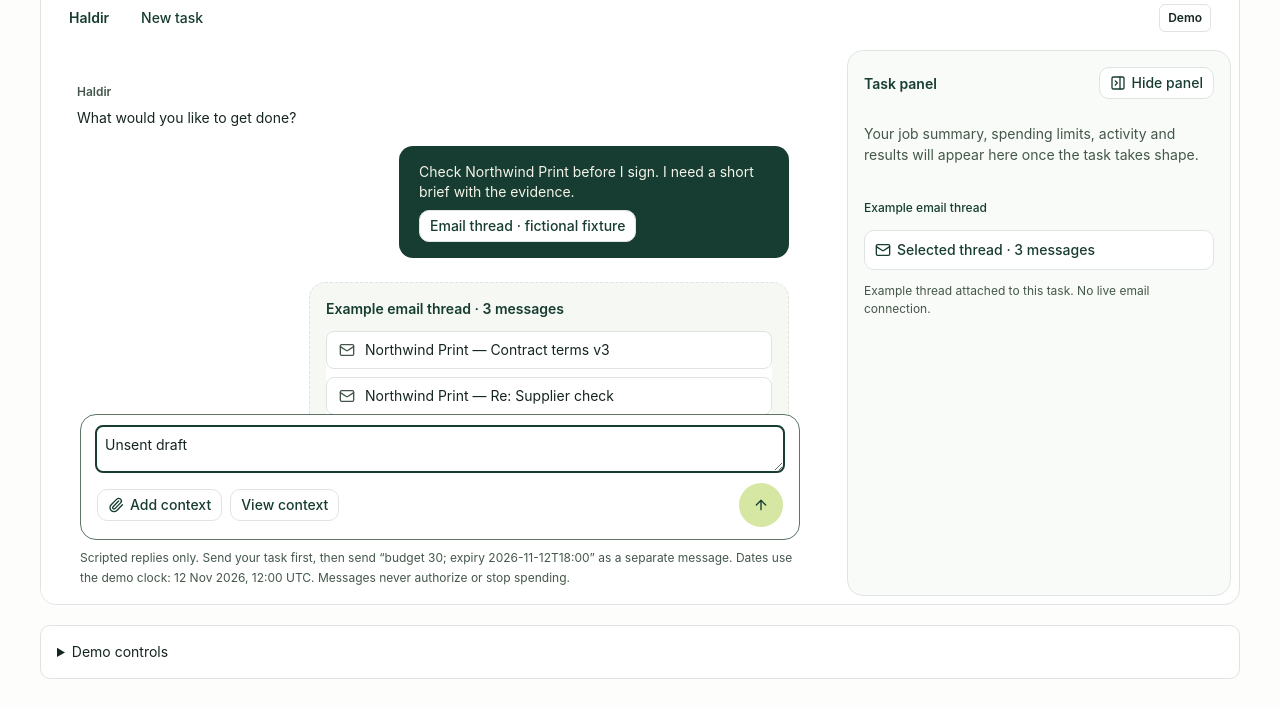
Test: reset restores keyboard focus to the new task composer on every replay
The width and height of the screenshot is (1280, 707).
Earlier steps of the test are not shown.
(page scrolled)
Click the heading "Demo controls" at point(120, 652), box [72,643,168,660]
(page scrolled)
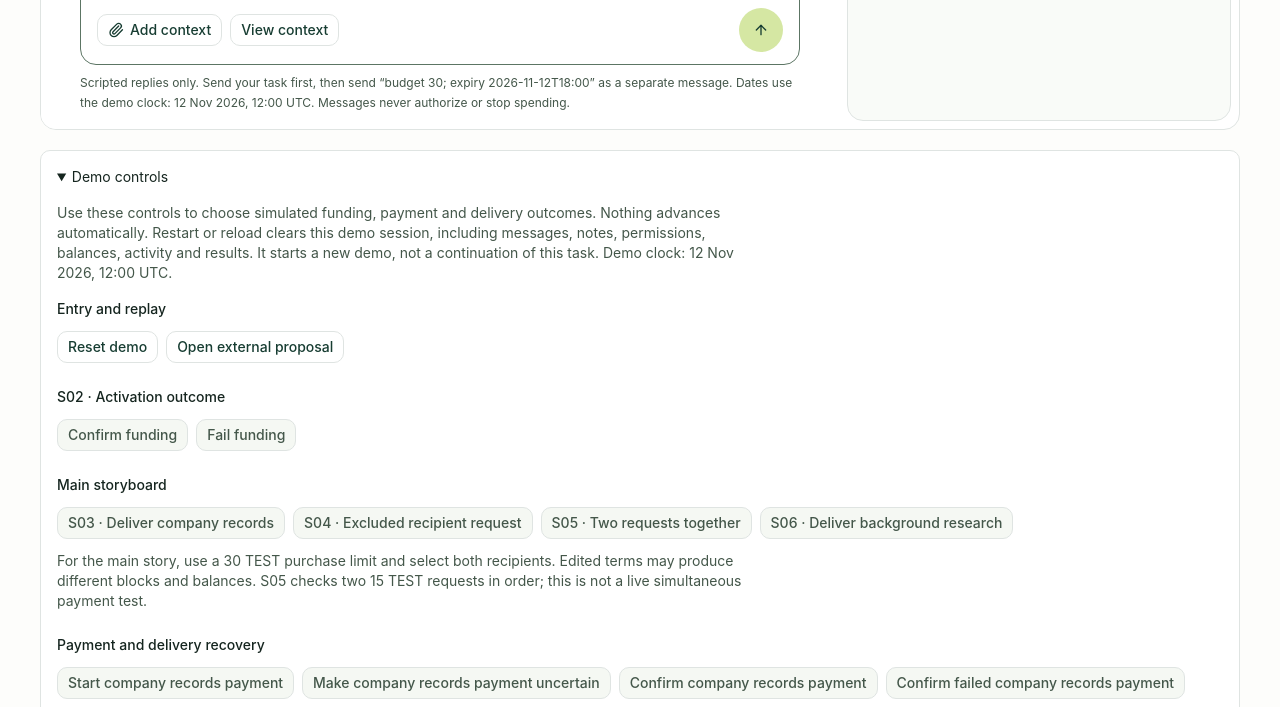
Click the button "Reset demo" at point(108, 347), box [57,331,158,363]
(page scrolled)
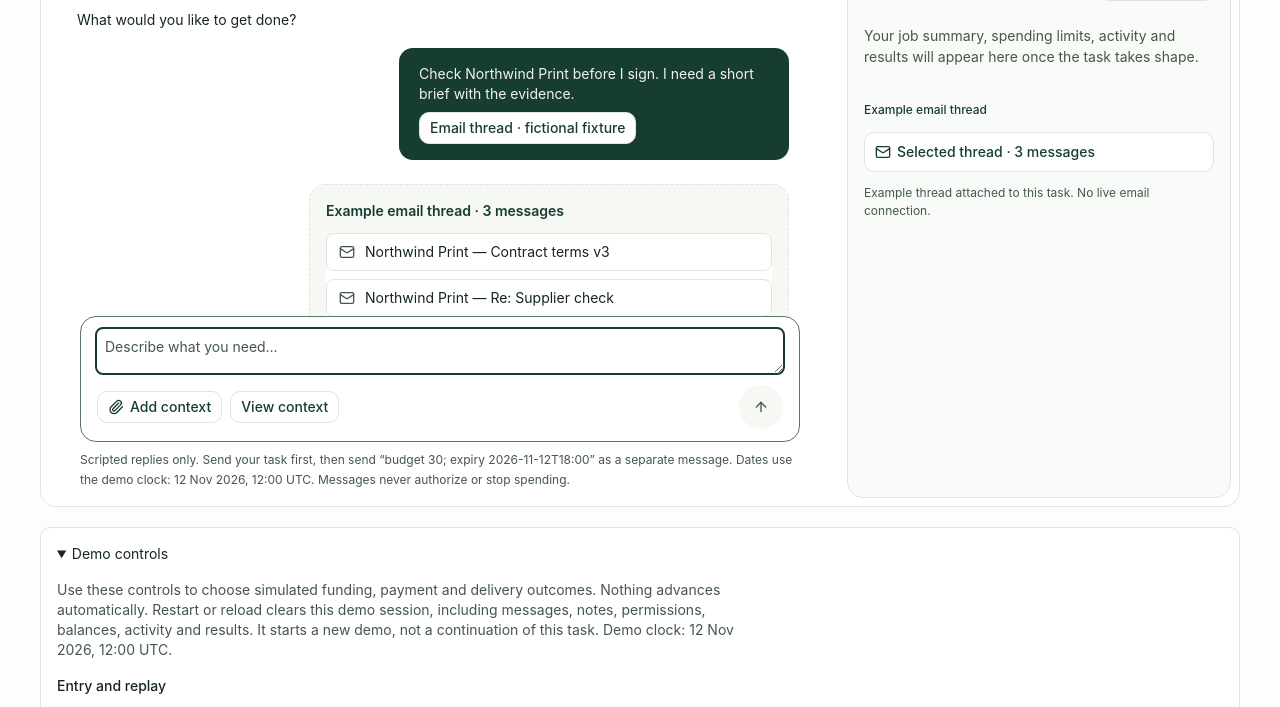
expect the text box named "Your message" is empty: met
Type "Unsent draft" into the text box named "Your message" at point(440, 351), box [97,329,783,373]
(page scrolled)
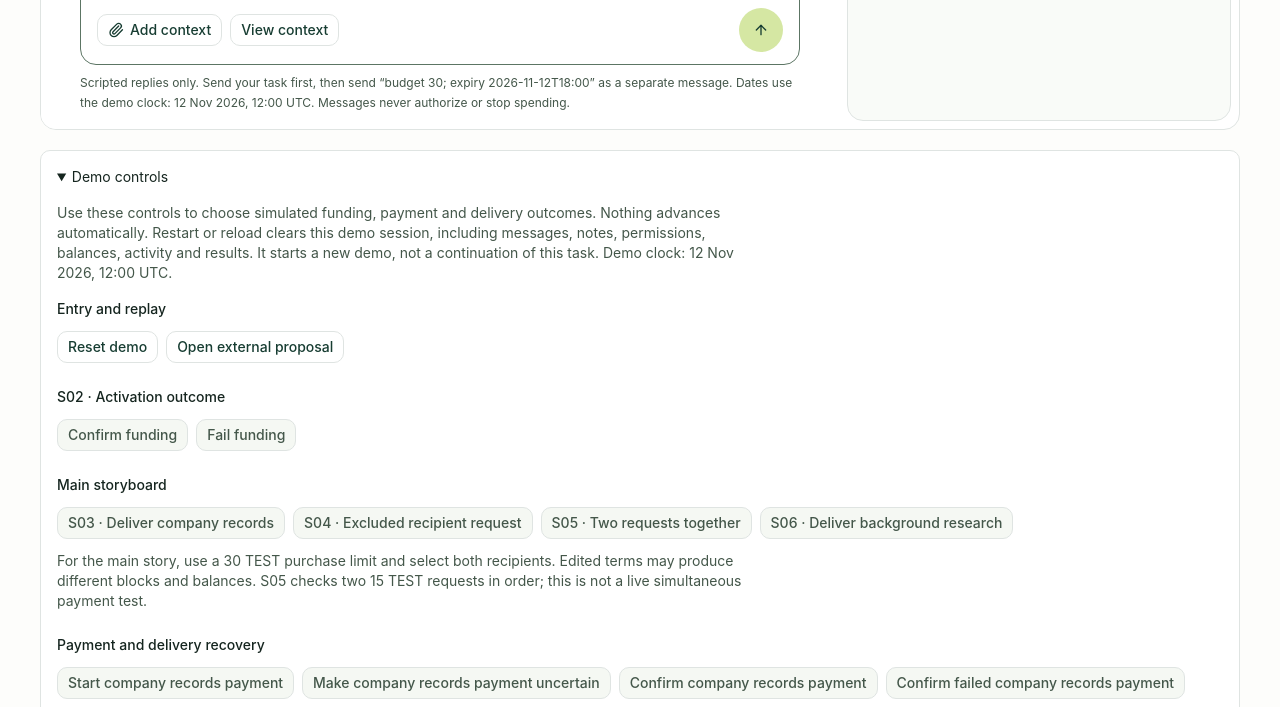
Click the button "Reset demo" at point(108, 347), box [57,331,158,363]
(page scrolled)
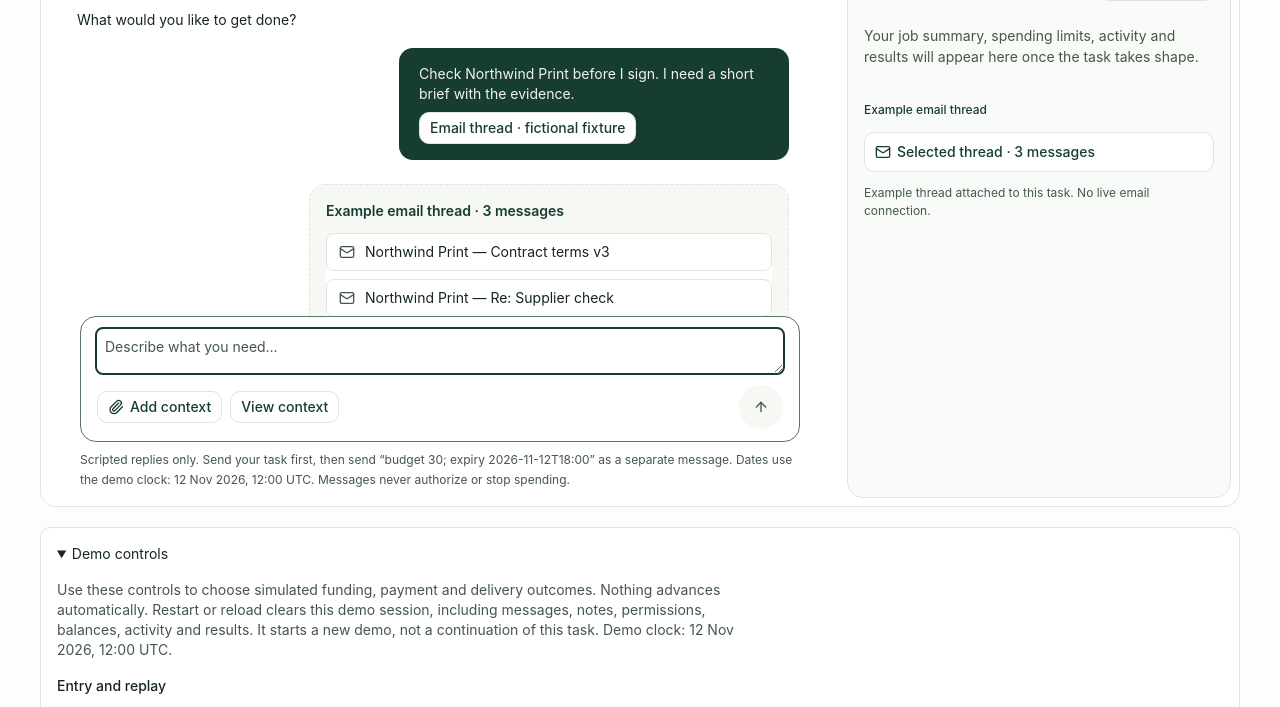
expect the text box named "Your message" is empty: met
Type "Unsent draft" into the text box named "Your message" at point(440, 351), box [97,329,783,373]
(page scrolled)
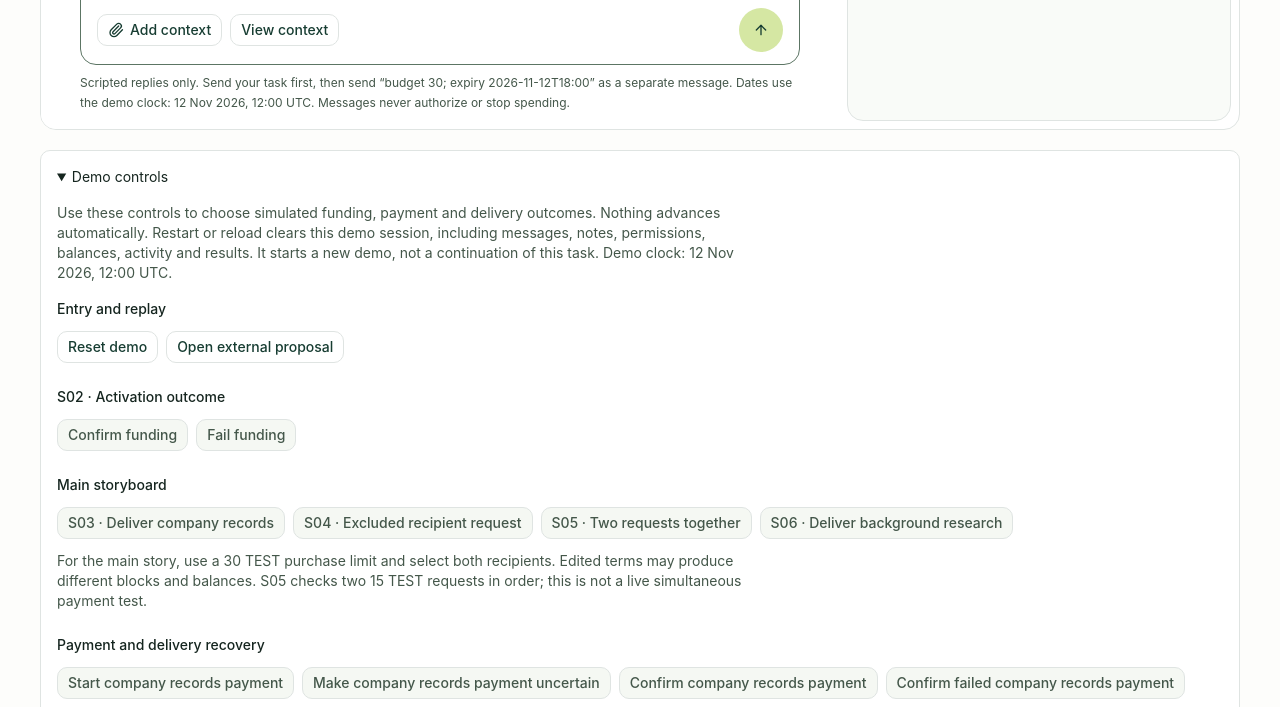
Click the button "Reset demo" at point(108, 347), box [57,331,158,363]
(page scrolled)
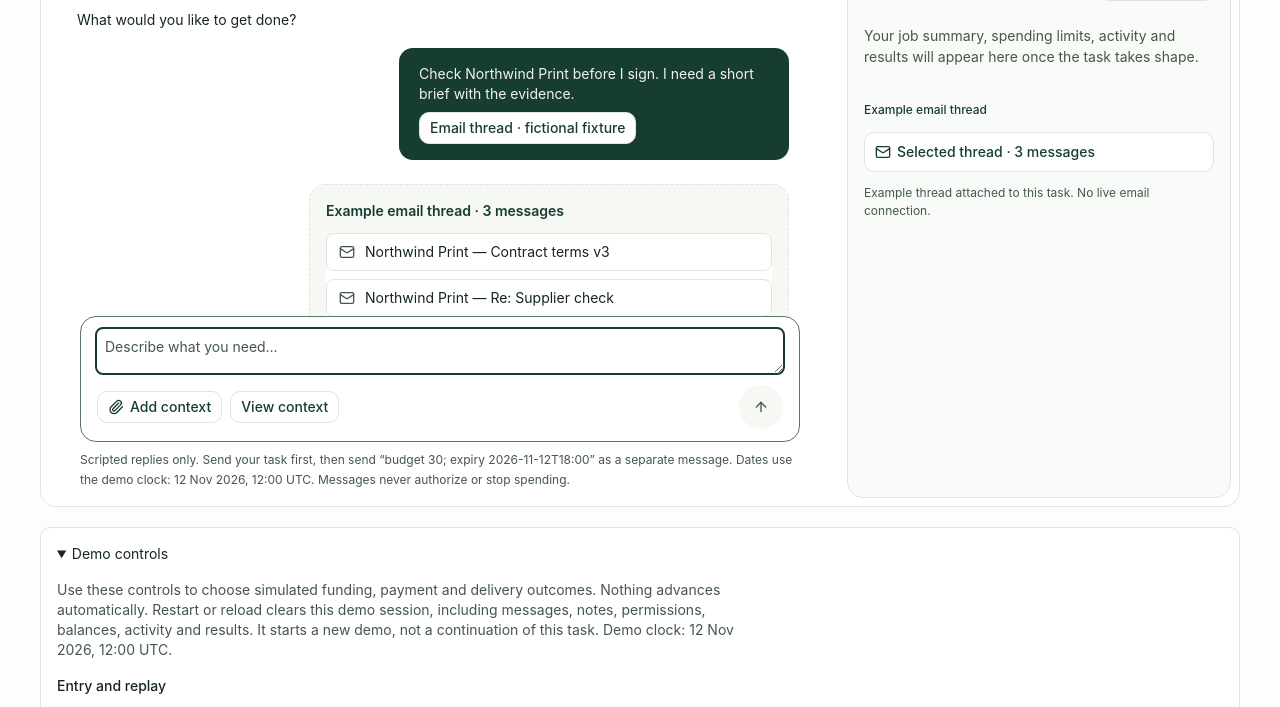
expect the text box named "Your message" is empty: met, box [97,329,783,373]
